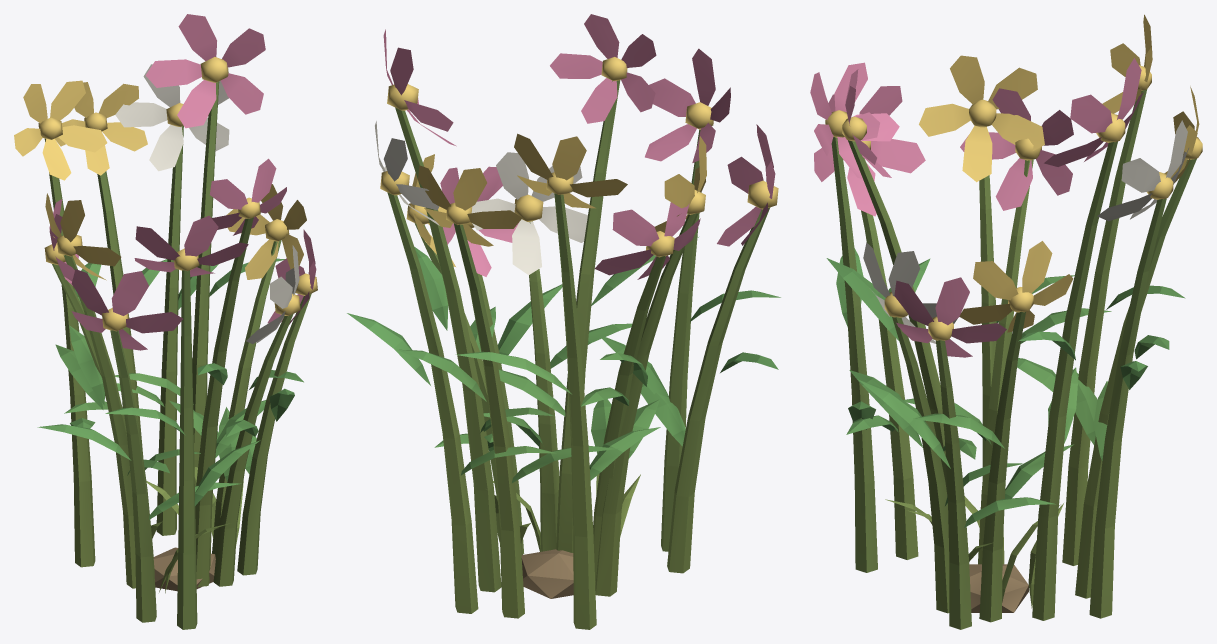
File: wildflowers.glb
The picture shows the model from 3 angles, left to right: view 1: azimuth 30°, elevation 25°; view 2: azimuth 150°, elevation 25°; view 3: azimuth 270°, elevation 25°; orthographic projection. The views are drawn at different scales.
Visible parts, largest first — view 1: wildflowers; view 2: wildflowers; view 3: wildflowers.
Boxes of the visible parts, <box> form: wildflowers: <box>14,14,317,629</box>; wildflowers: <box>347,14,780,629</box>; wildflowers: <box>810,14,1202,629</box>.
Bounding box in the file's own units: 0.6084 × 1.01 × 0.6102.
